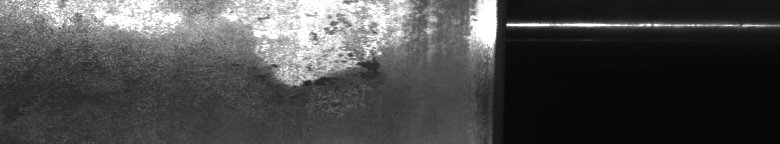kb: (219, 5, 480, 92)
